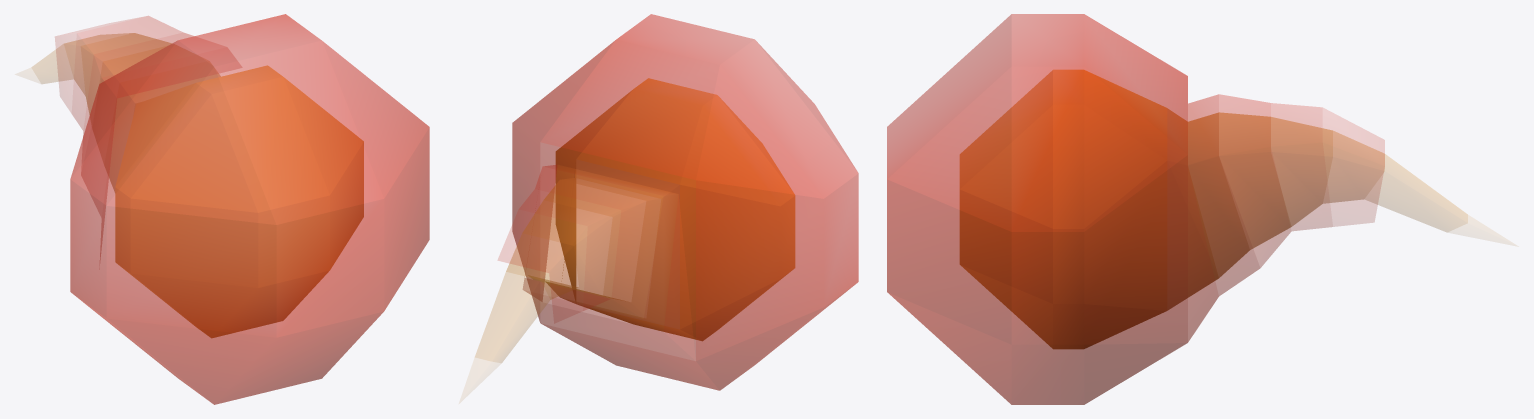
File: mokhaiotl-melee-orb.glb
The picture shows the model from 3 angles, left to right: view 1: azimuth 30°, elevation 25°; view 2: azimuth 150°, elevation 25°; view 3: azimuth 270°, elevation 25°; orthographic projection. The views are drawn at different scales.
Parts seen in each view (by area): view 1: spot3378_mesh; view 2: spot3378_mesh; view 3: spot3378_mesh.
Boxes of the visible parts, bbox=[...] form: spot3378_mesh: bbox=[31, 14, 429, 404]; spot3378_mesh: bbox=[475, 14, 858, 390]; spot3378_mesh: bbox=[887, 14, 1467, 404].
Size of the model in its own units: 0.5625 by 0.5625 by 0.9531.
